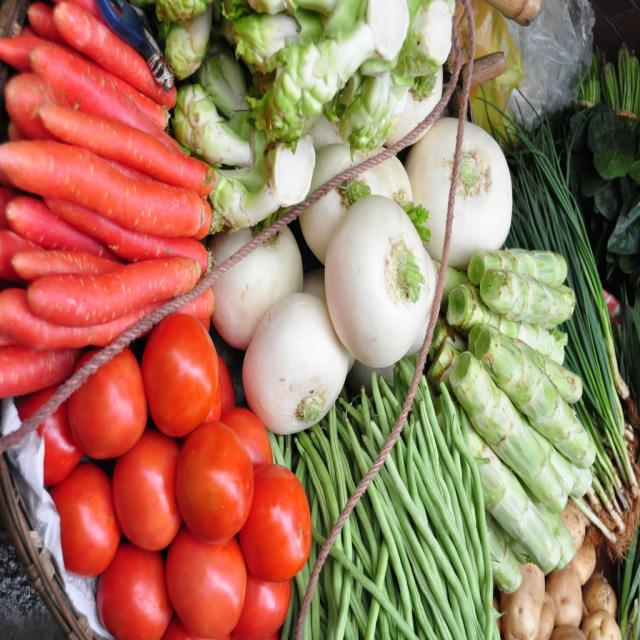carrot: (0, 0, 222, 403), (25, 250, 202, 324)
